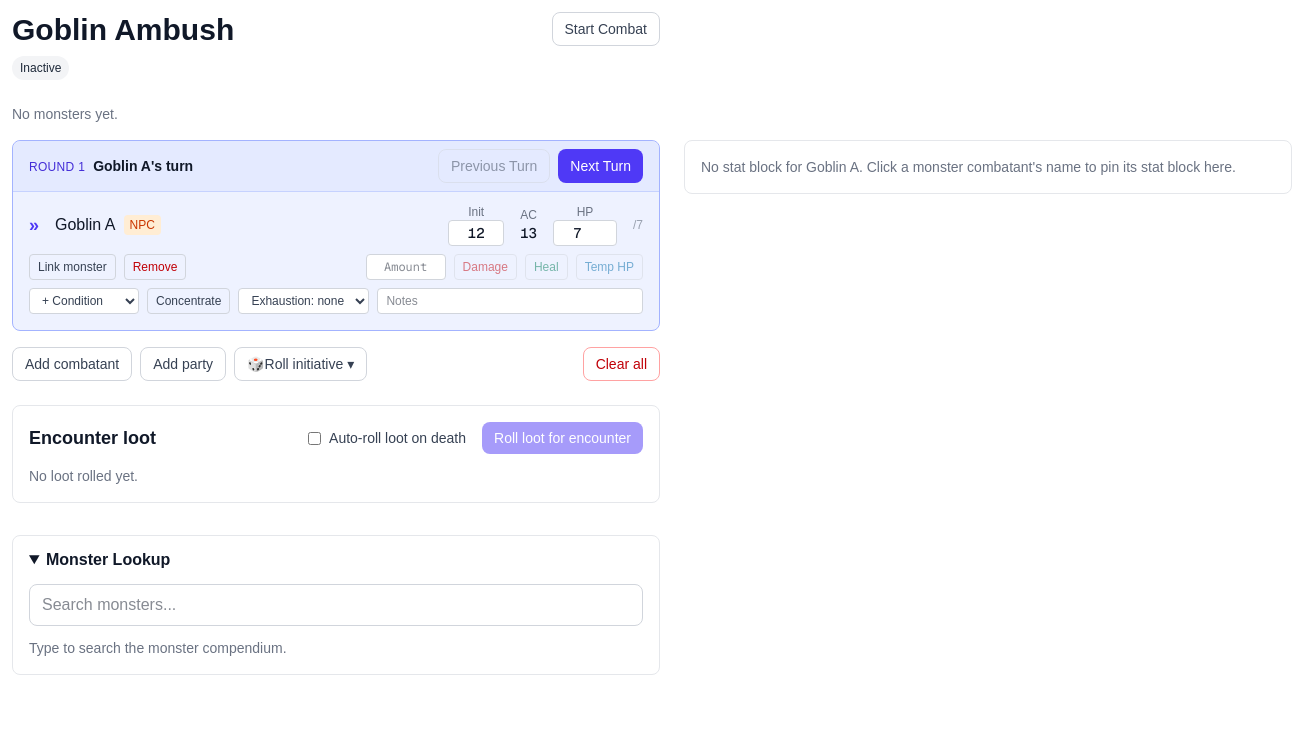
Test case: InitiativeTrackerPage › damage, heal & temporary HP › disables the action buttons until a positive whole number is entered
Expected: the heading "Goblin Ambush" is shown, [12,12,234,48]
Expected: the button with aria-label "damage goblin a" is disabled, [454,254,517,280]
Type "0" into the field with placeholder "Amount". click: (406, 267)
box: [366,254,446,280]
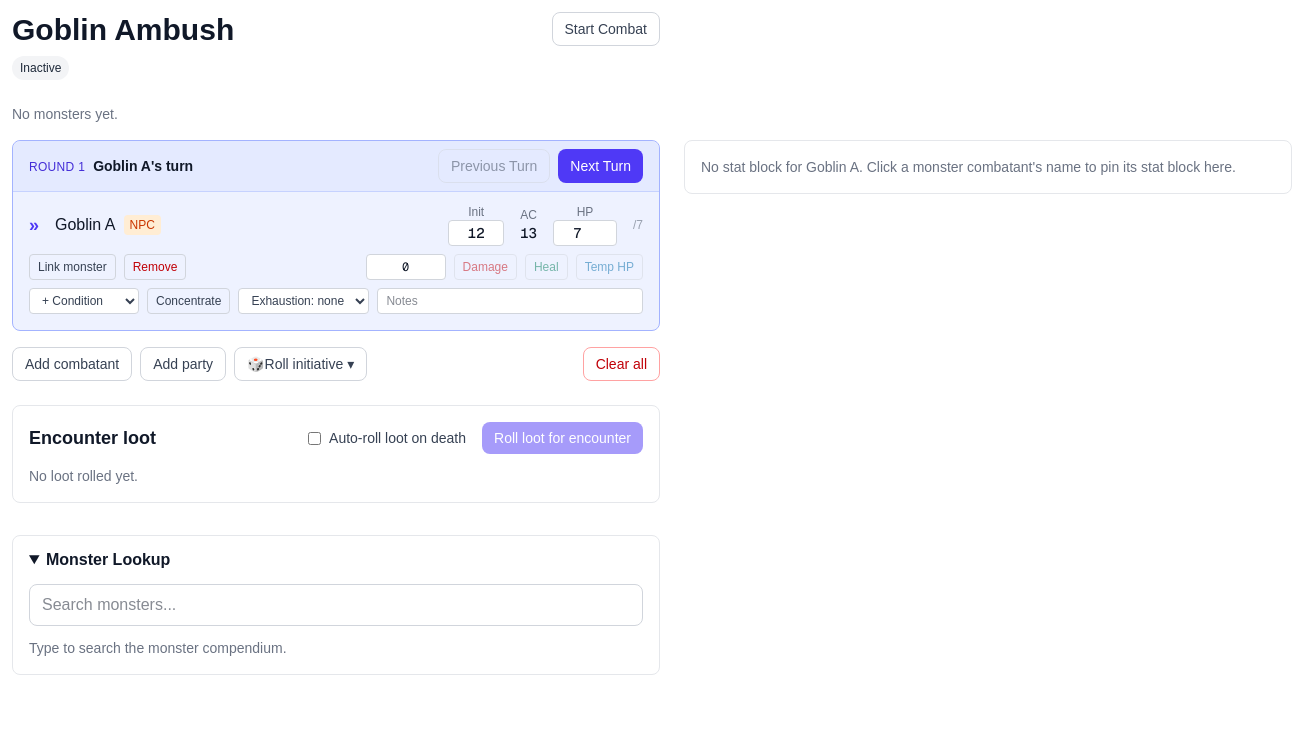
Expected: the button with aria-label "damage goblin a" is disabled, [454,254,517,280]
Replace the text in the field named "Damage or heal amount for Goblin A" with "2.5". click: (406, 267)
box: [366,254,446,280]
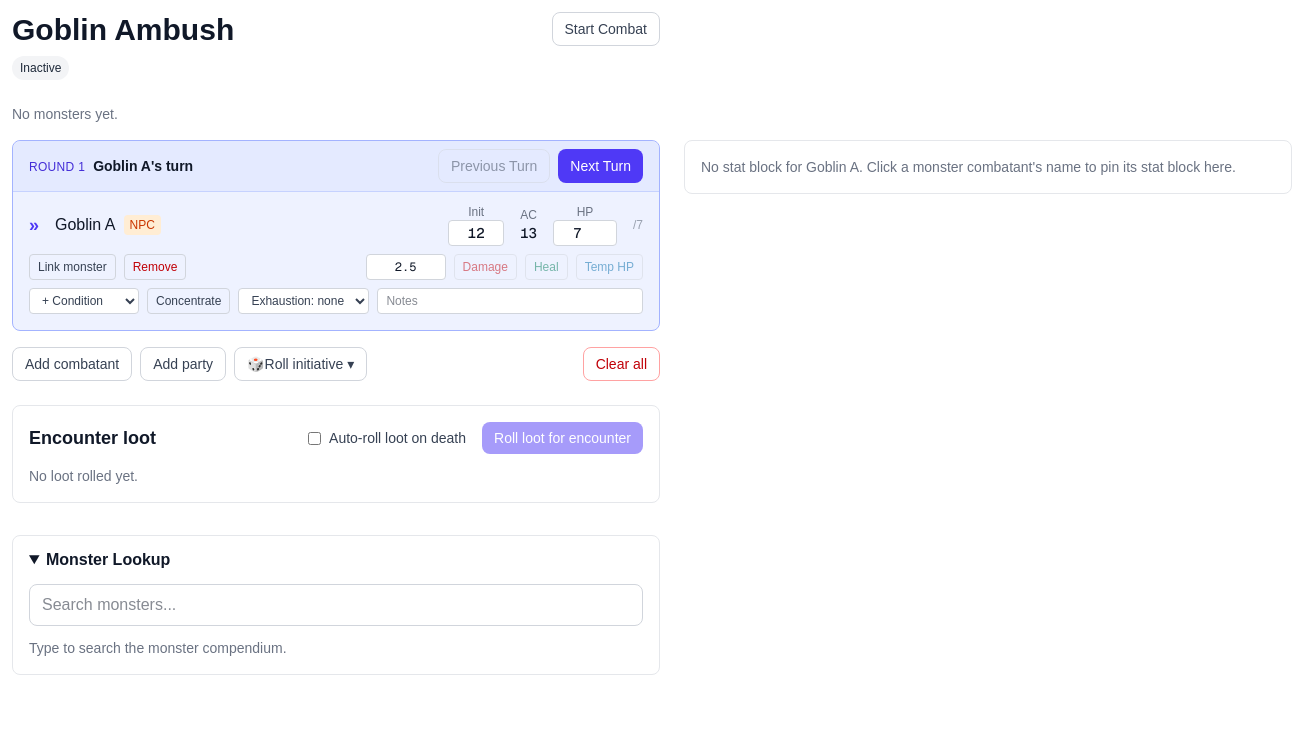
Expected: the button with aria-label "damage goblin a" is disabled, [454,254,517,280]
Replace the text in the field named "Damage or heal amount for Goblin A" with "abc". click: (406, 267)
box: [366,254,446,280]
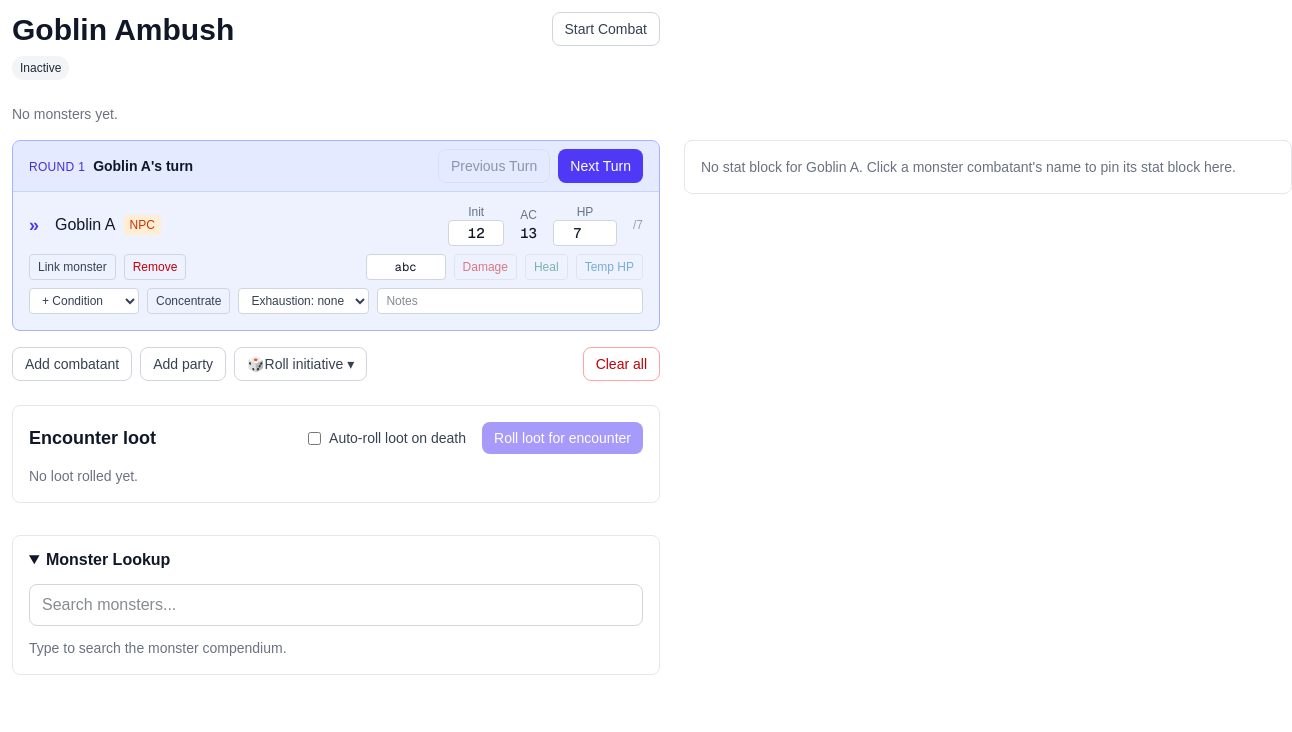
Expected: the button with aria-label "damage goblin a" is disabled, [454,254,517,280]
Replace the text in the field named "Damage or heal amount for Goblin A" with "5". click: (406, 267)
box: [366,254,446,280]
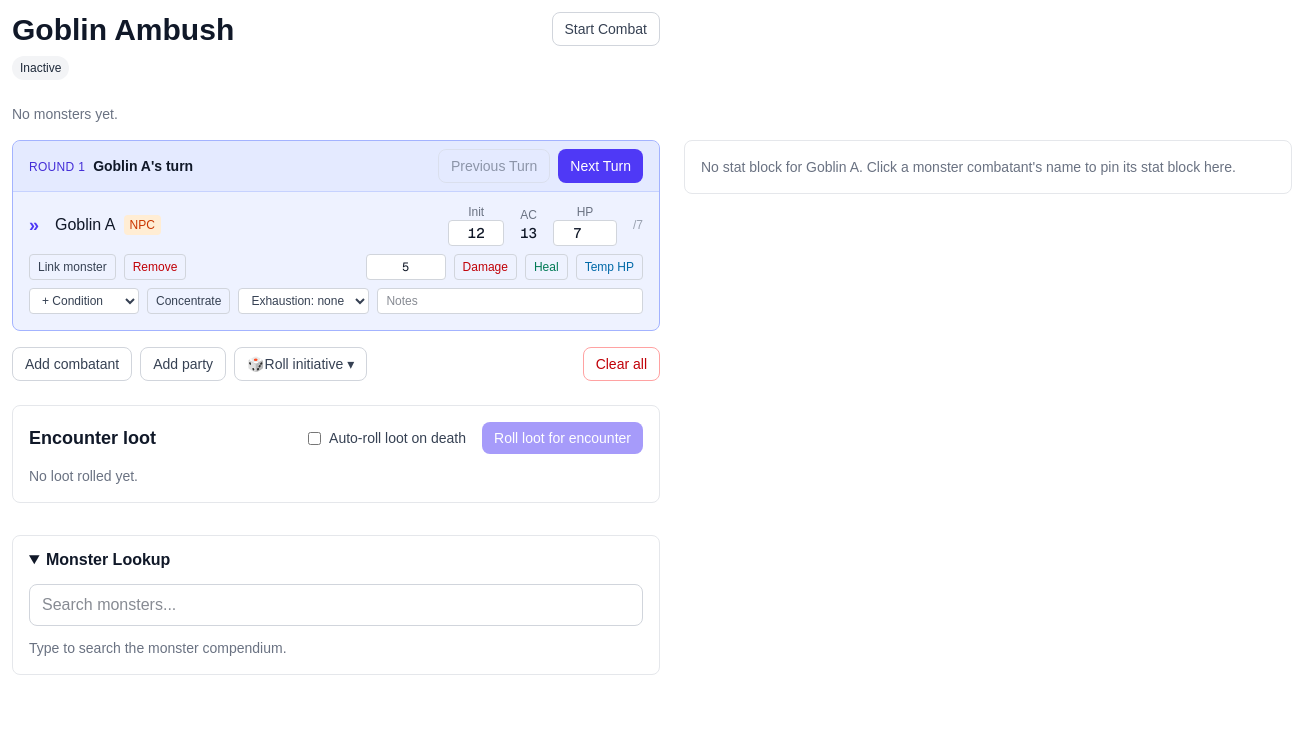
Result: the button with aria-label "damage goblin a" is enabled at [454,254,517,280]
Result: the button with aria-label "heal goblin a" is enabled at [525,254,568,280]
Result: the button with aria-label "grant temp hp to goblin a" is enabled at [576,254,643,280]
